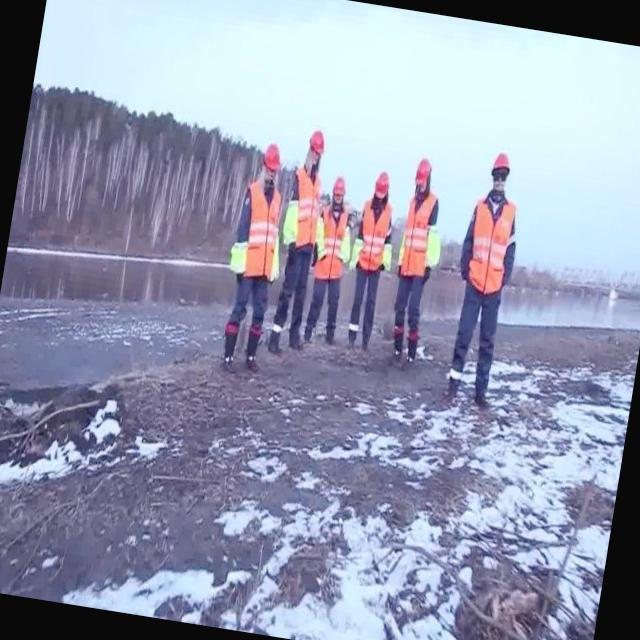vest: (235, 178, 288, 282), (282, 168, 328, 254), (354, 198, 396, 276), (399, 194, 437, 280), (314, 202, 352, 280), (282, 187, 304, 247), (422, 223, 444, 270), (229, 237, 250, 280), (312, 215, 331, 262), (268, 239, 285, 286), (339, 230, 354, 270), (349, 234, 364, 265), (380, 240, 393, 274)
